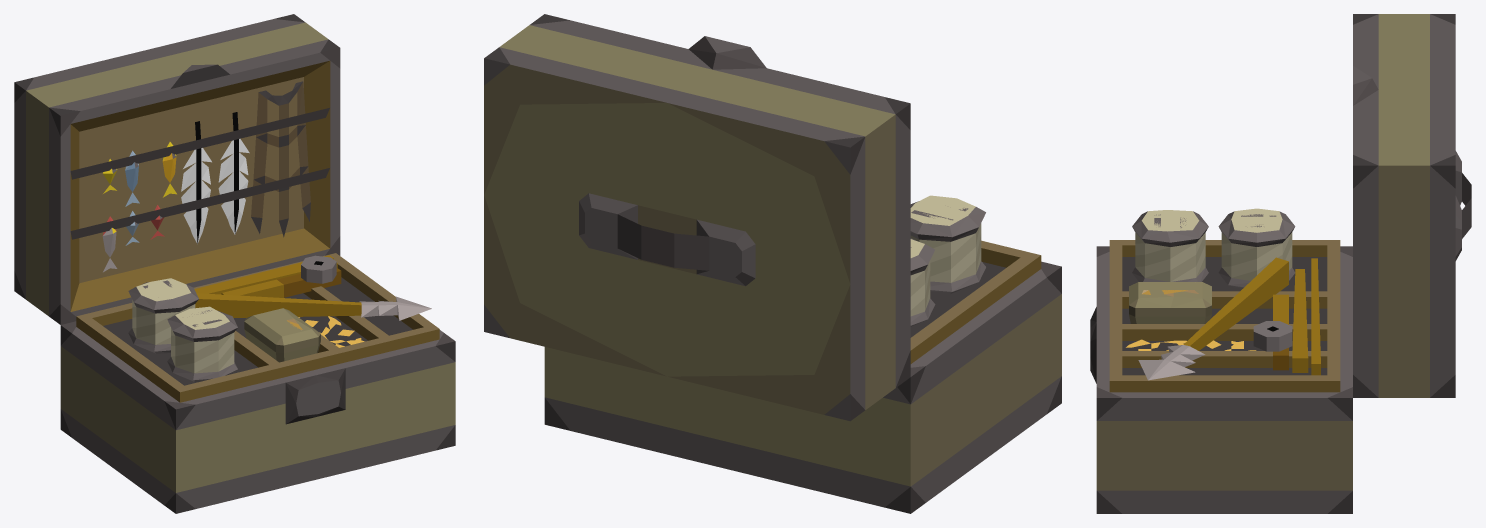
The model's file is tackle-box.gltf.
3 renders of one model, left to right at view 1: azimuth 30°, elevation 25°; view 2: azimuth 150°, elevation 25°; view 3: azimuth 270°, elevation 25°, orthographic. The views are drawn at different scales.
Bounding box in the file's own units: 112 × 125 × 119.
Materials: 2 (2 with a texture image).
